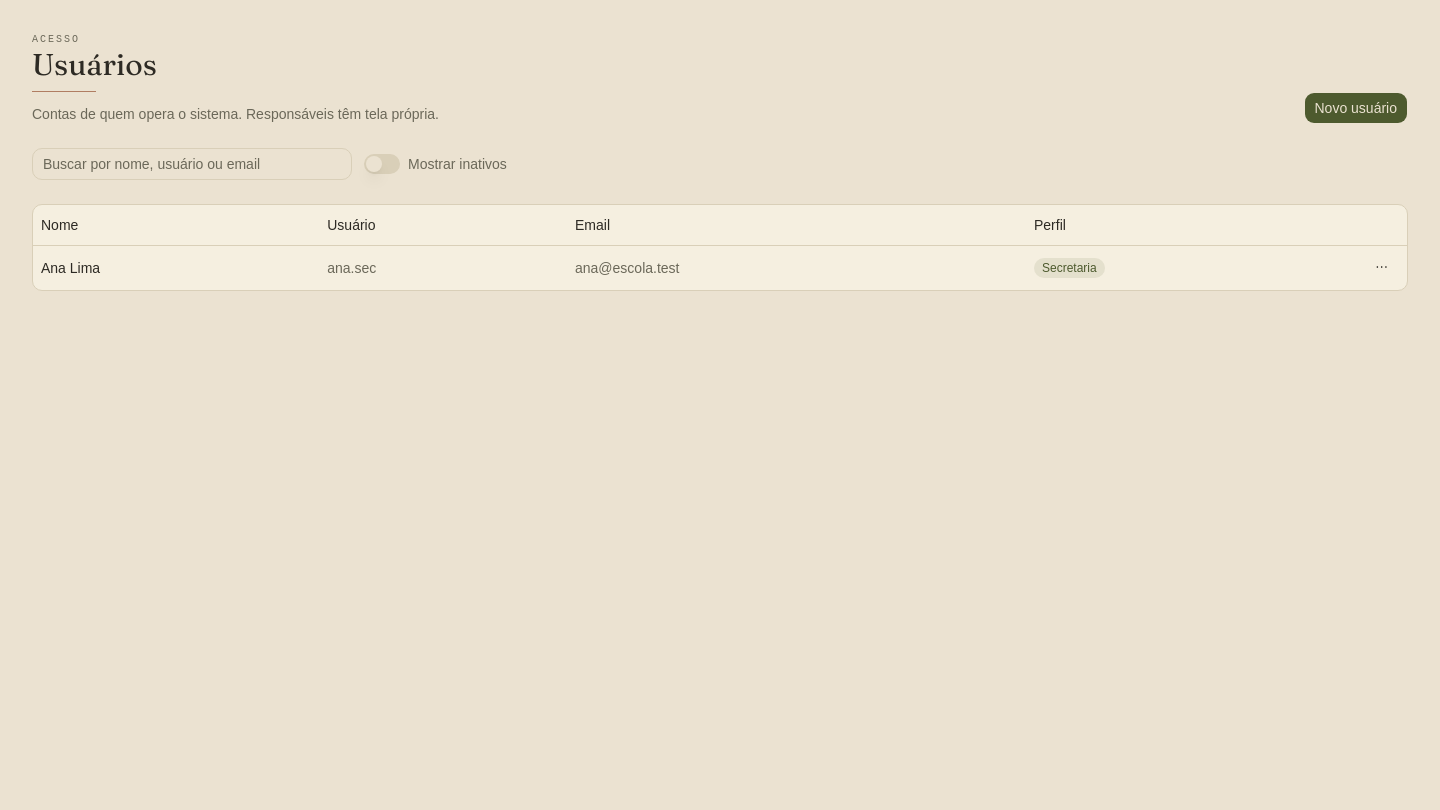
Scenario: UsuariosPage › mostra a recusa do backend em vez de um erro genérico
Expected: the text "Ana Lima" is shown, [41, 260, 100, 276]
Click the button "Novo usuário" at (1356, 108), box [1304, 92, 1408, 124]
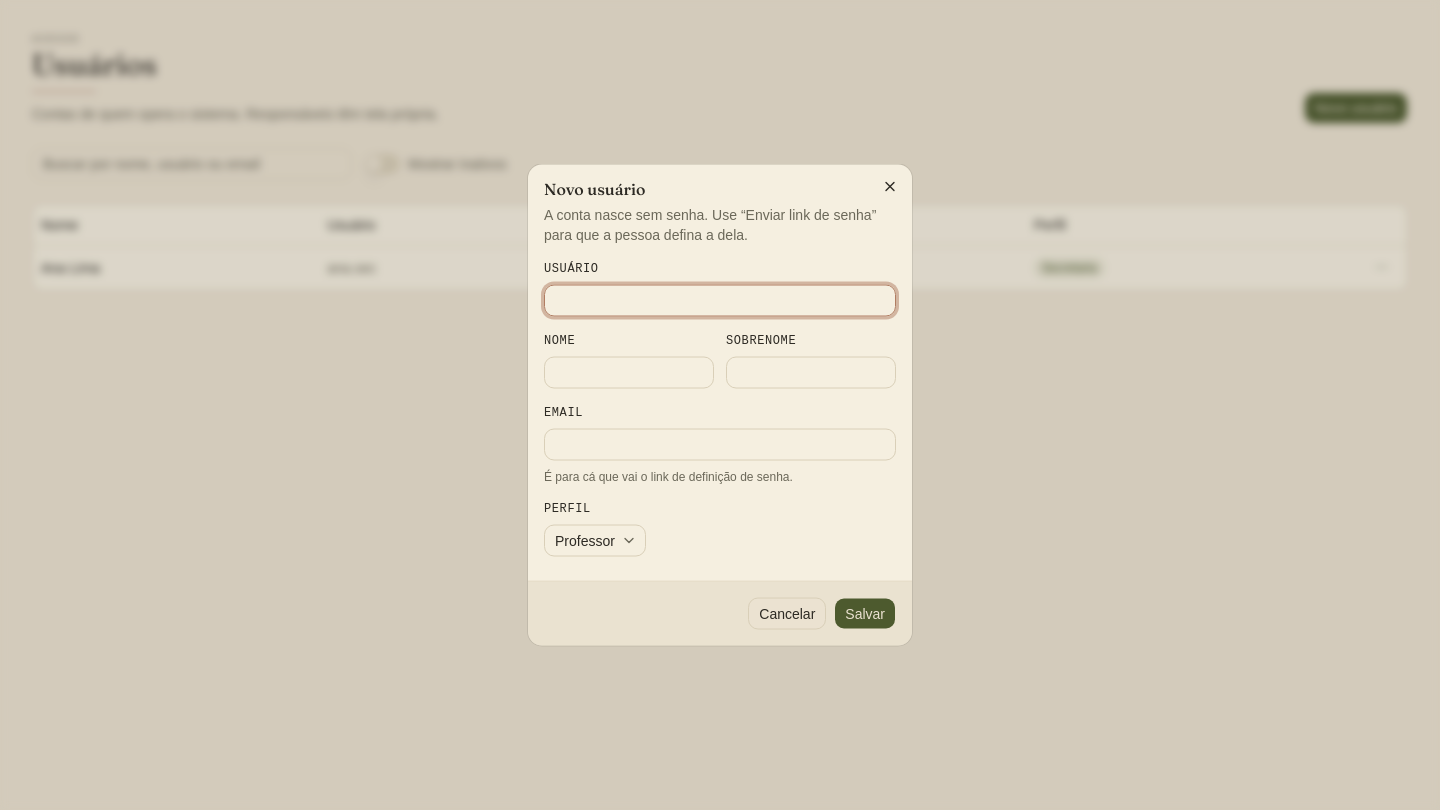
Type "novo" into the field labelled "Usuário" at (720, 300), box [544, 284, 896, 316]
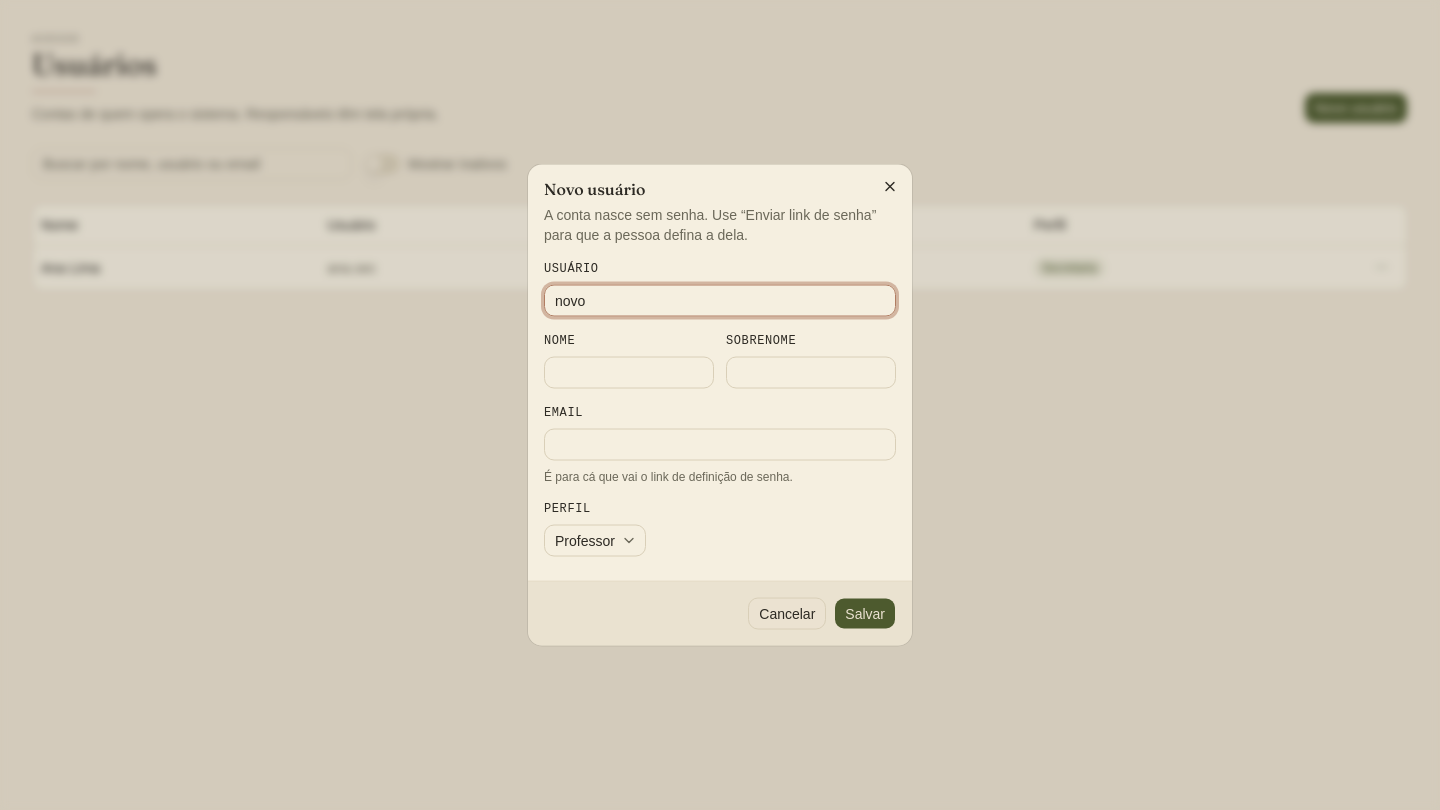
Type "n@e.test" into the field labelled "Email" at (720, 444), box [544, 428, 896, 460]
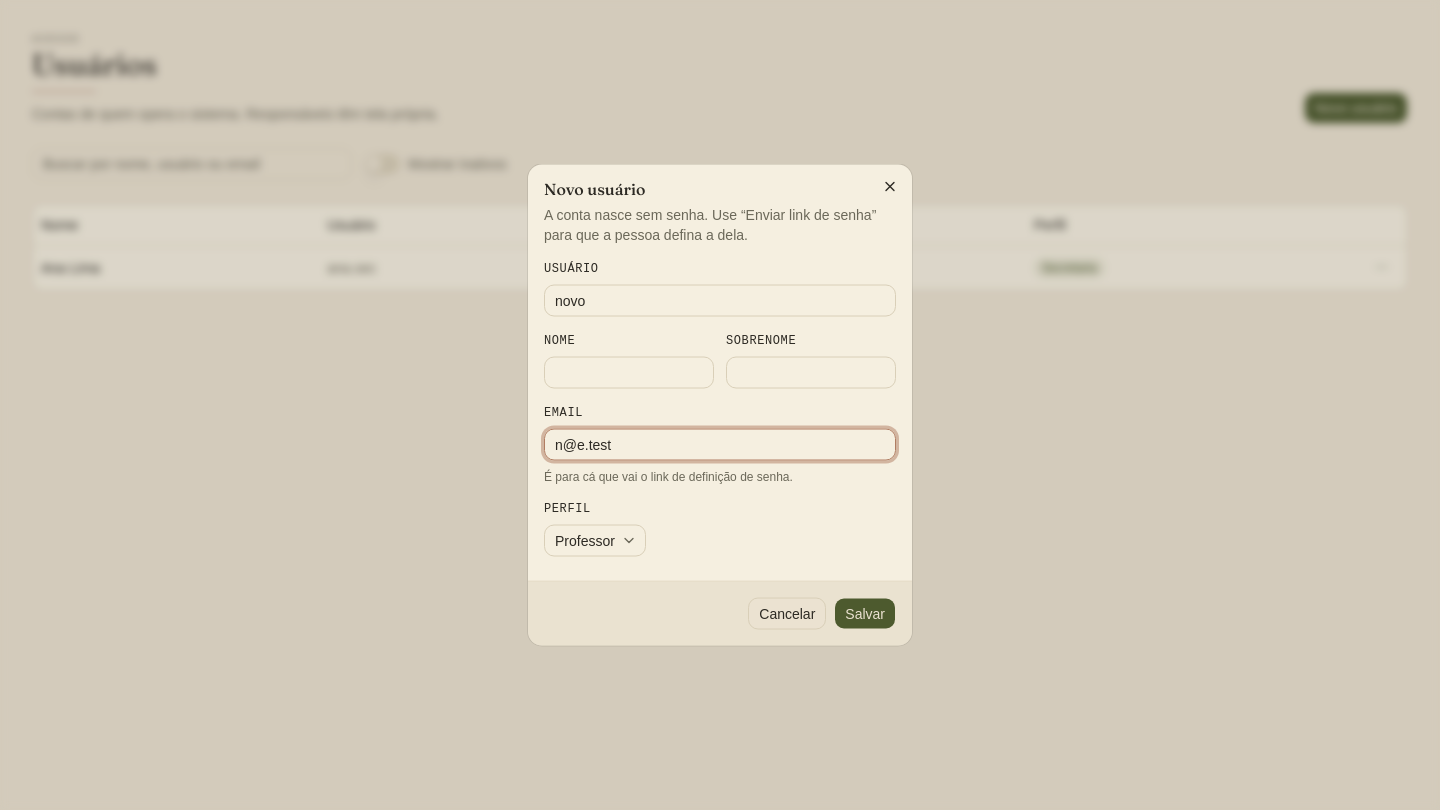
Click the button "Salvar" at (865, 614), box [834, 598, 896, 630]
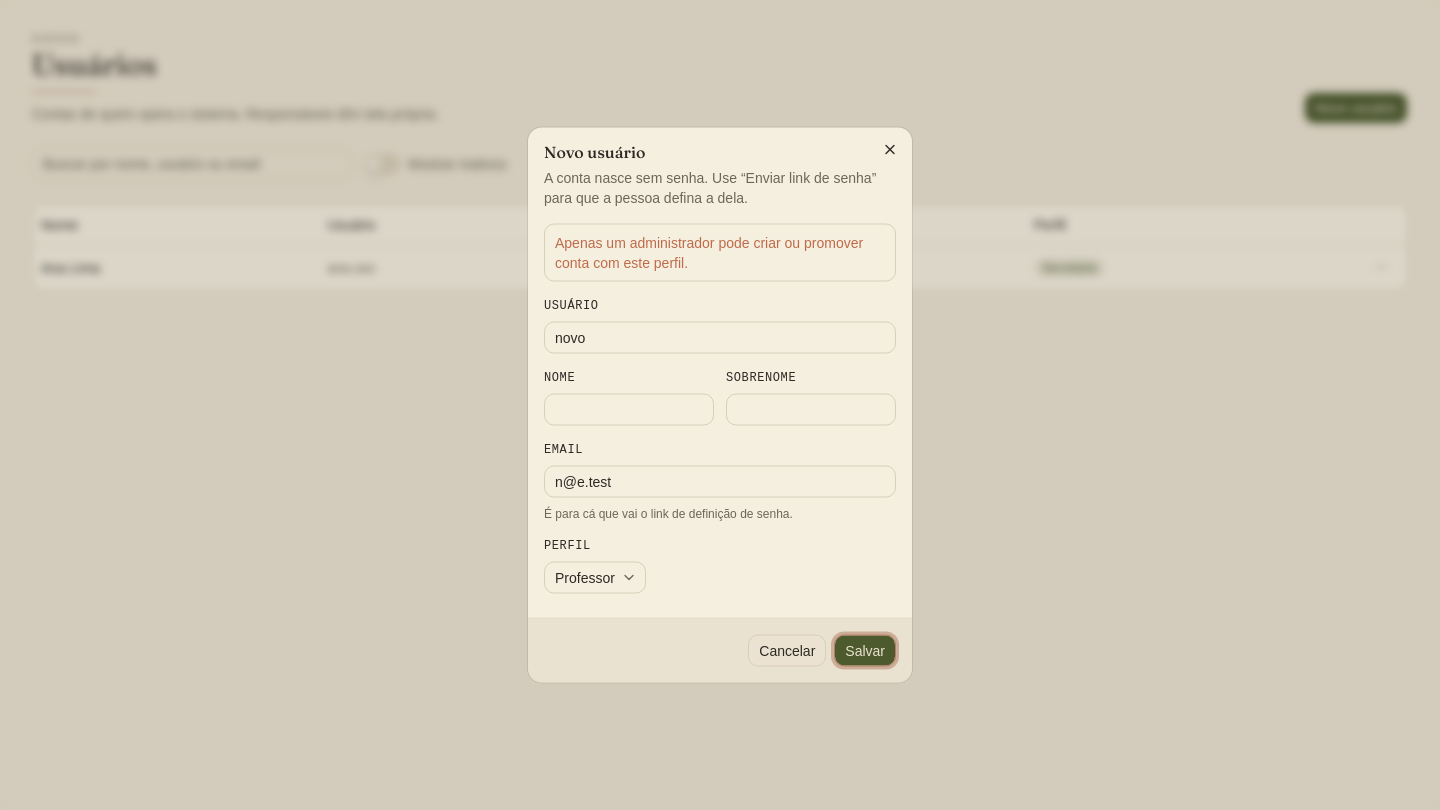
Expected: the text "Apenas um administrador pode criar ou promover conta com este perfil." is shown, [555, 232, 885, 272]
